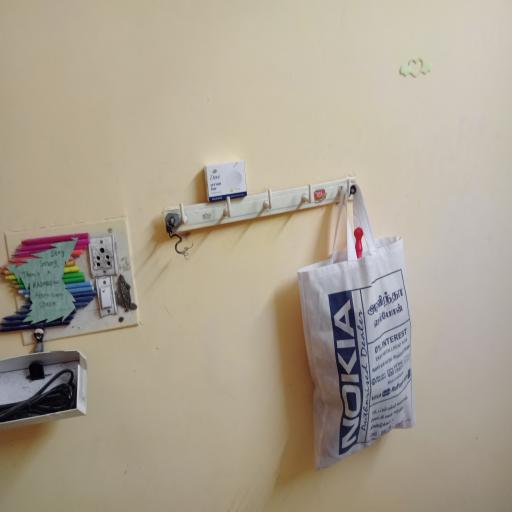Dove`1: (202, 160, 248, 202)
